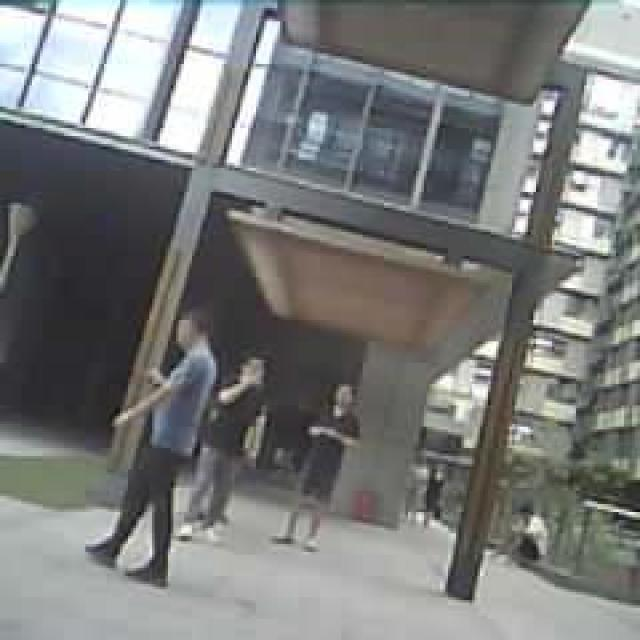person: (84, 319, 218, 585), (270, 383, 362, 550), (182, 360, 266, 536), (488, 502, 550, 564), (409, 449, 431, 519), (430, 462, 448, 526)
